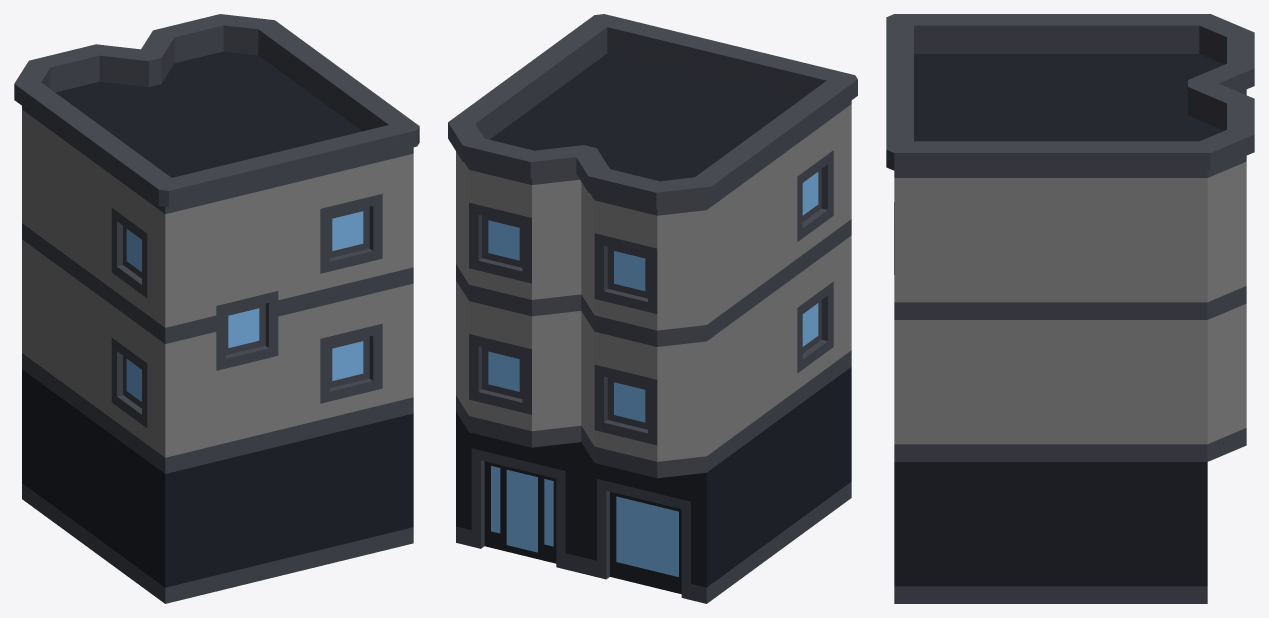
The model's file is variant_16.obj.
3 views of the same model, side by side, from view 1: azimuth 30°, elevation 25°; view 2: azimuth 150°, elevation 25°; view 3: azimuth 270°, elevation 25° (orthographic). The views are drawn at different scales.
Visible parts, largest first — view 1: Building_copy, Window_copy; view 2: Building_copy; view 3: Building_copy.
Boxes of the visible parts, x1,y1,x2,y2 form: Building_copy: (14,14,419,603); Window_copy: (216,291,278,370); Building_copy: (448,14,857,603); Building_copy: (886,14,1254,603).
Size of the model in its own units: 0.84 by 1.28 by 0.94.
